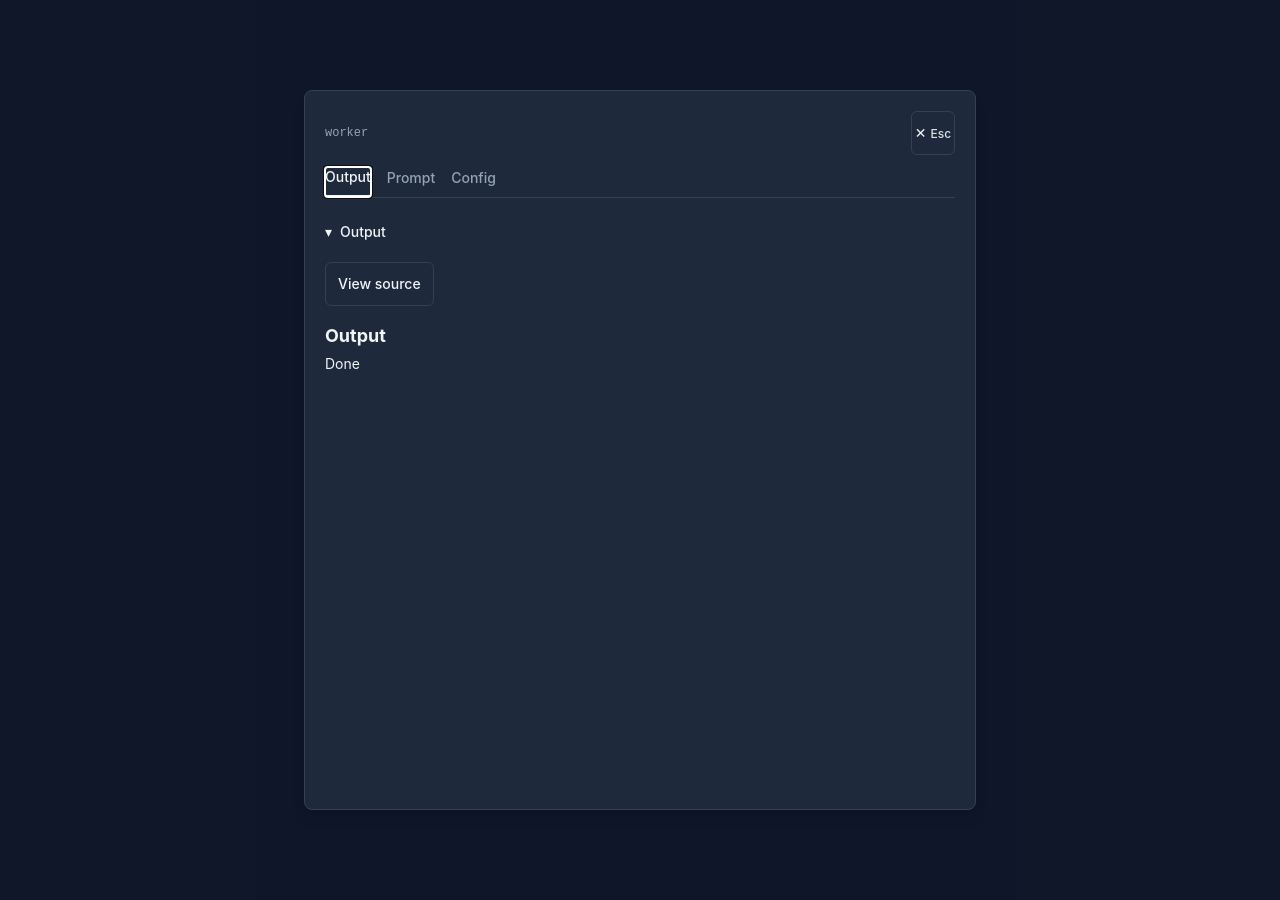
Test case: NodeDetailModal › re-visiting a tab does not re-fetch
Expected: the element with test id "output-content" is shown, left=325, top=325, right=386, bottom=372
Click the tab with test id "tab-prompt" at (411, 182), box left=387, top=167, right=435, bottom=197
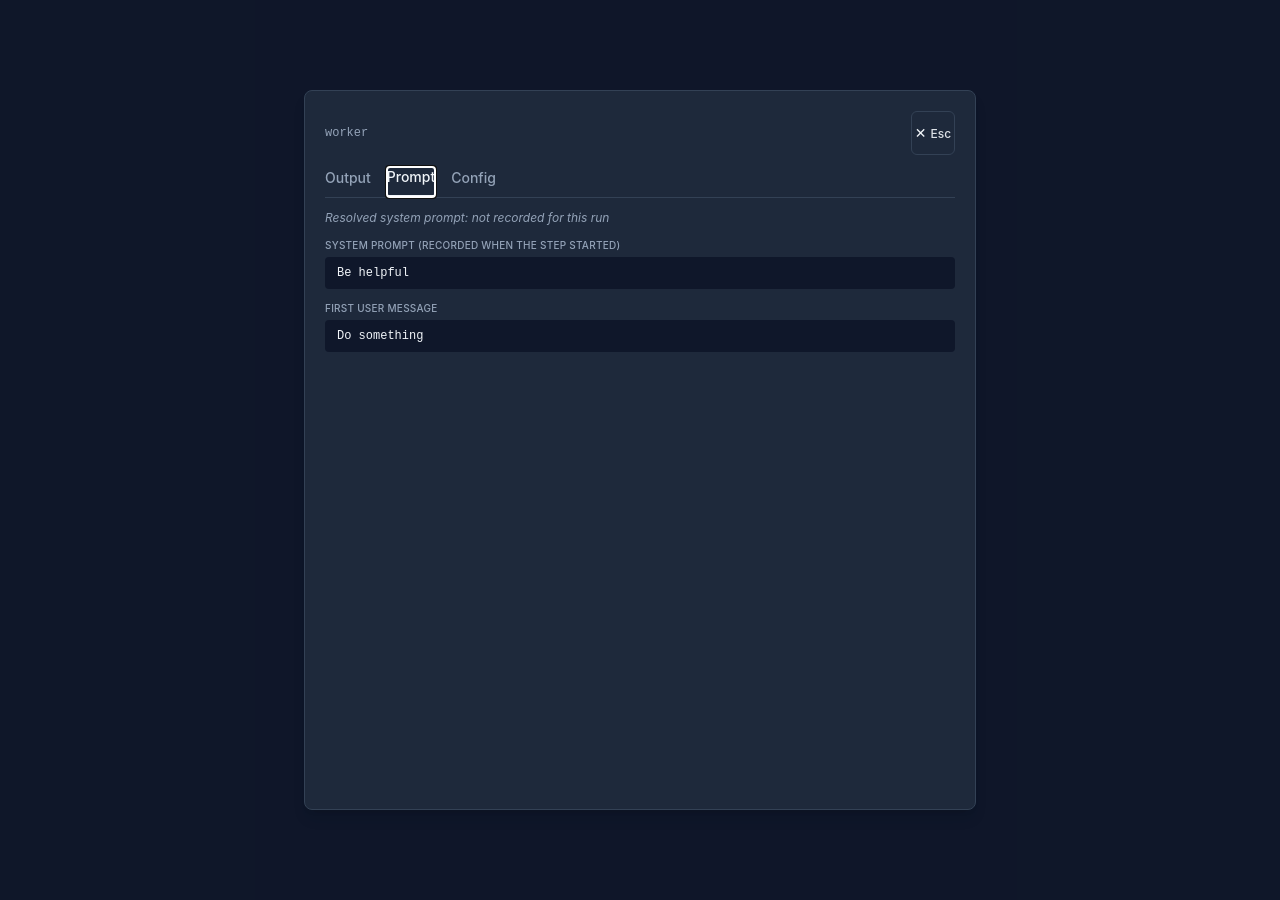
Result: the element with test id "prompt-content" is shown at left=325, top=210, right=955, bottom=352
Click the tab with test id "tab-output" at (348, 182), box left=325, top=167, right=371, bottom=197
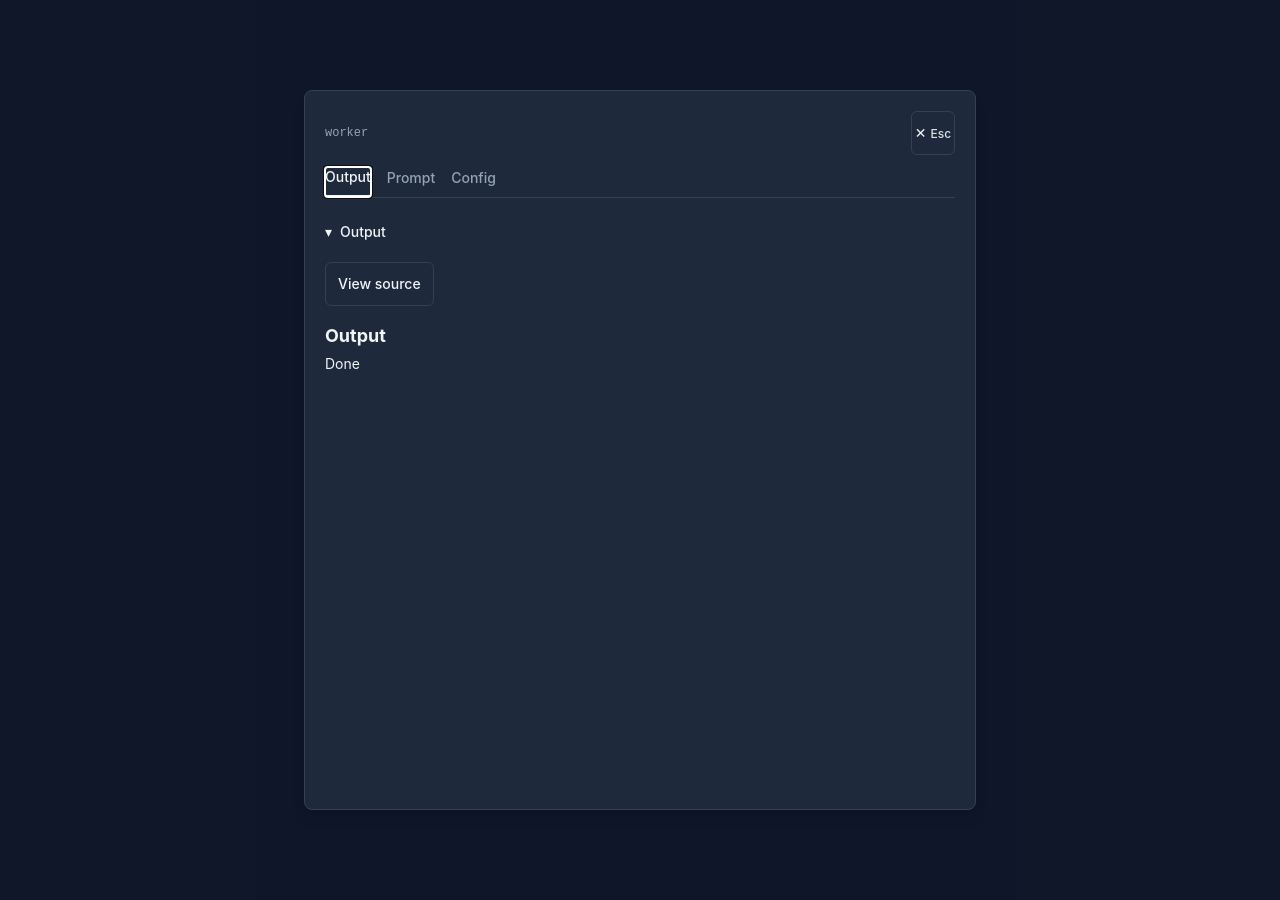
Result: the element with test id "output-content" is shown at left=325, top=325, right=386, bottom=372
Click the tab with test id "tab-config" at (474, 182), box left=451, top=167, right=496, bottom=197
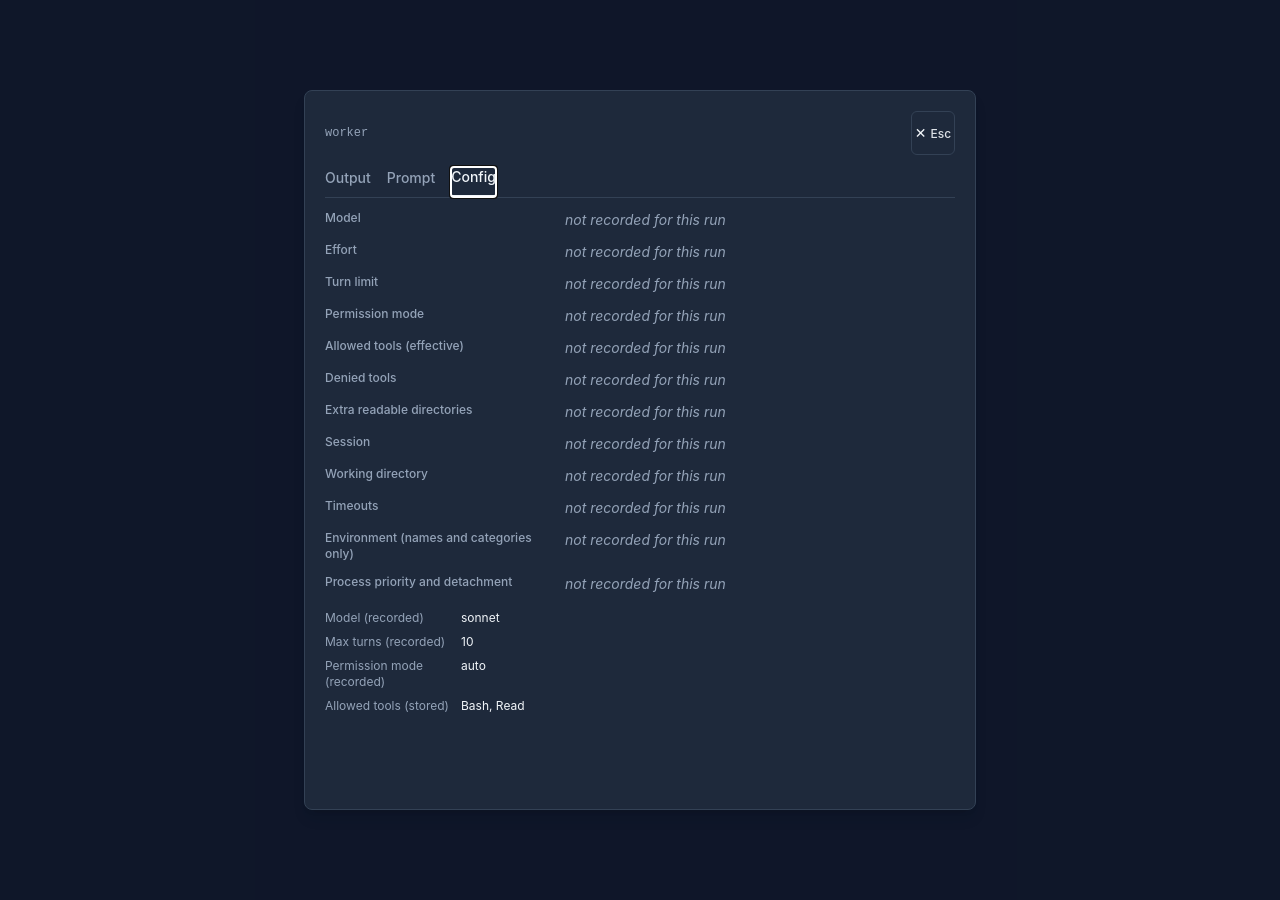
Result: the element with test id "config-content" is shown at left=325, top=210, right=726, bottom=713
